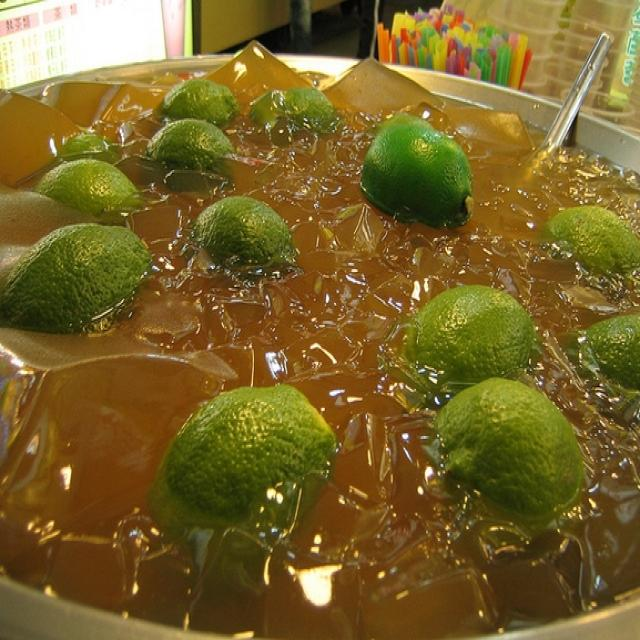蛋糕甜品: (18, 18, 616, 618)
